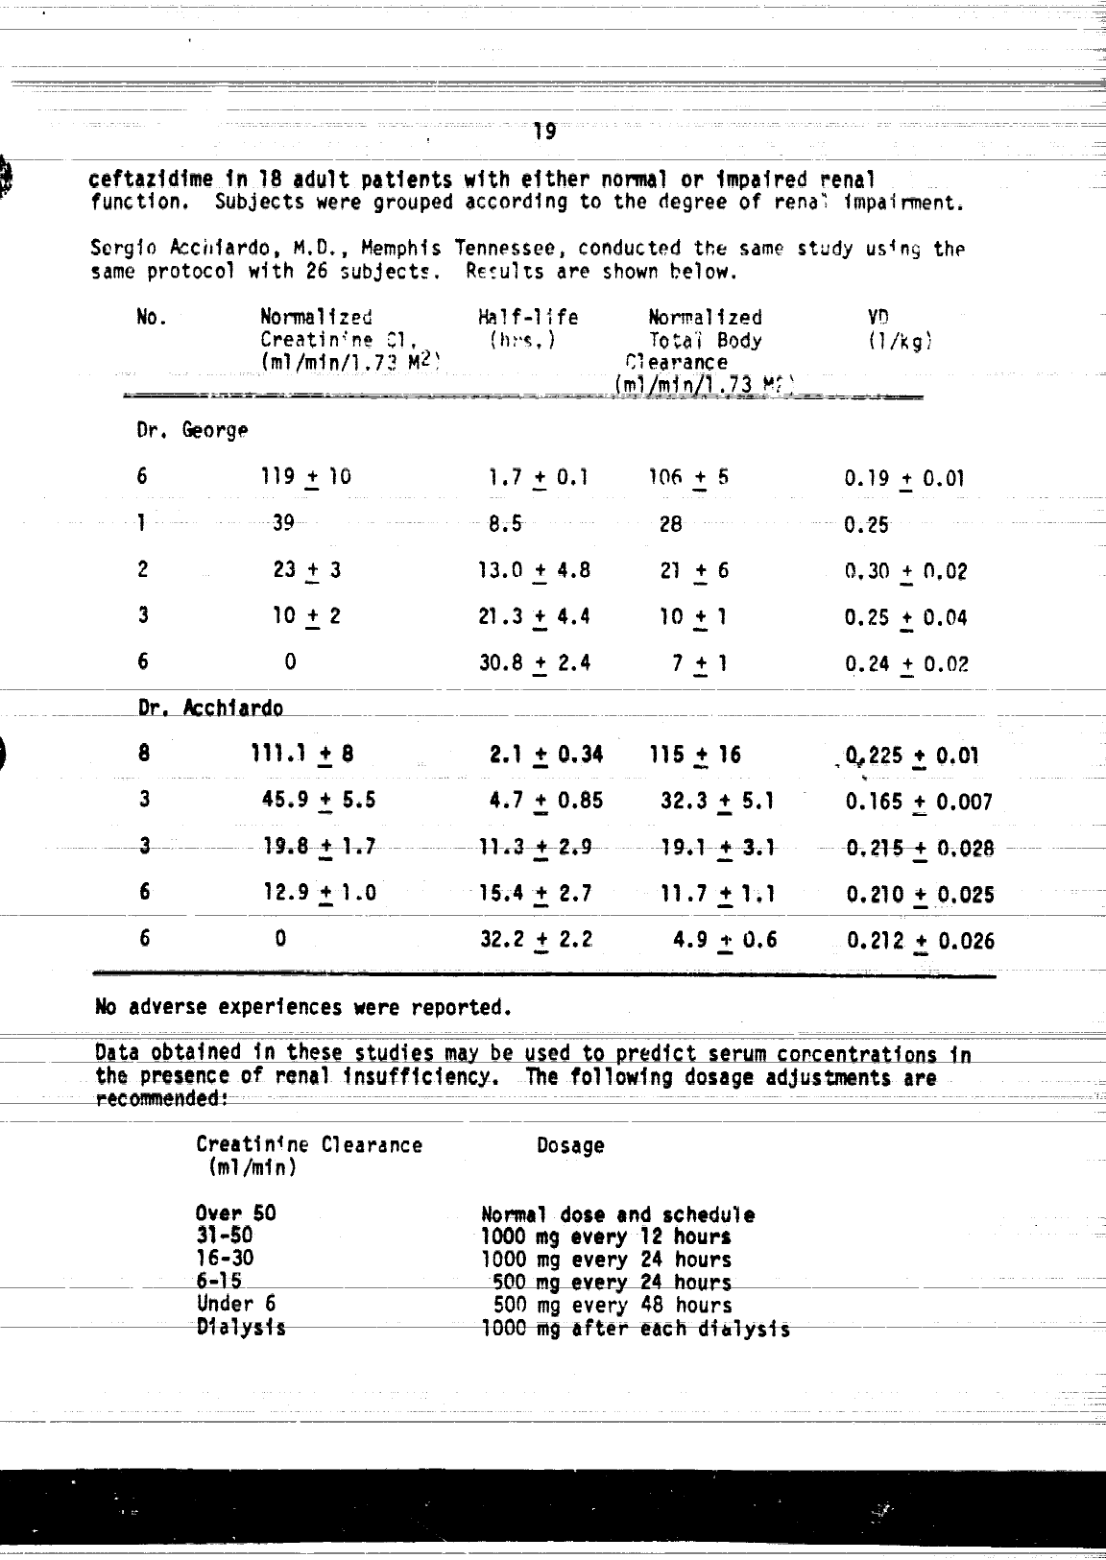nolines: (192, 1133, 798, 1342)
partial_lined: (89, 302, 1003, 979)
